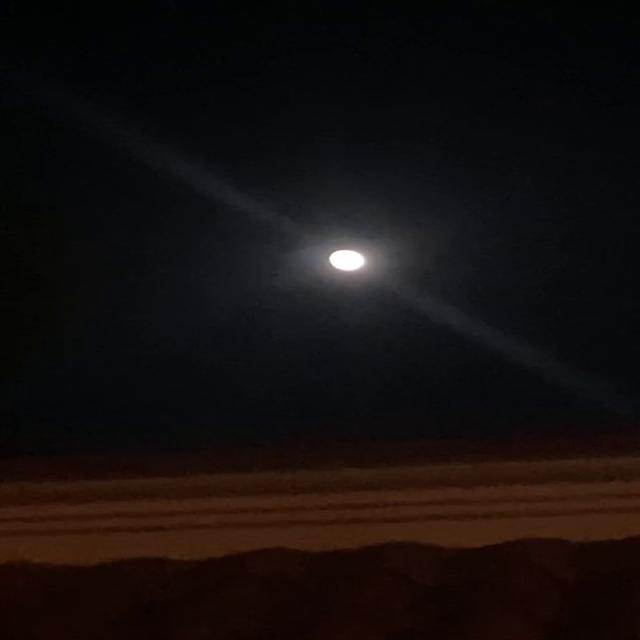moon: (321, 248, 365, 275)
